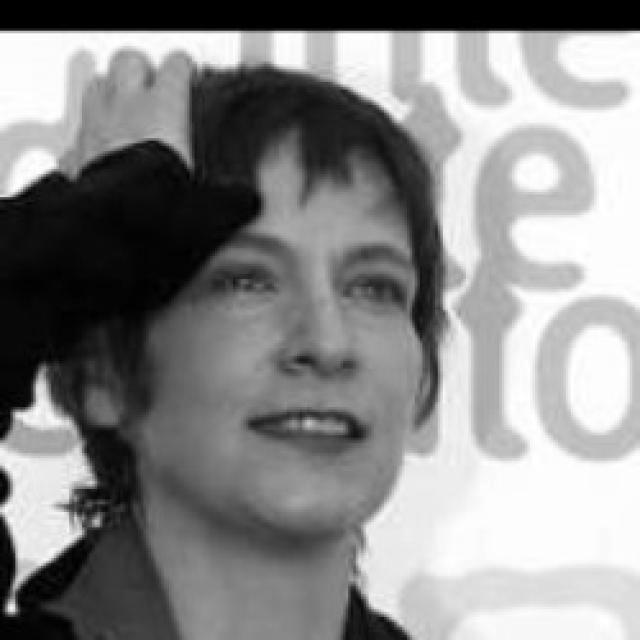real: (135, 116, 423, 534), (199, 244, 420, 323)
